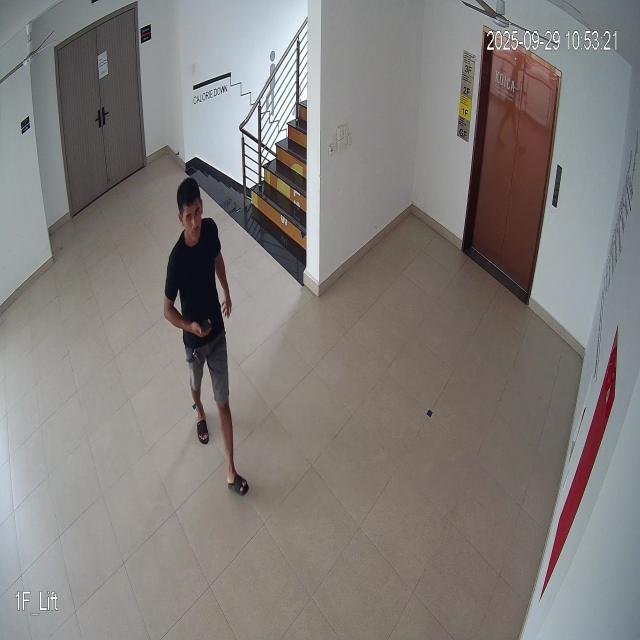face: (176, 168, 207, 247)
